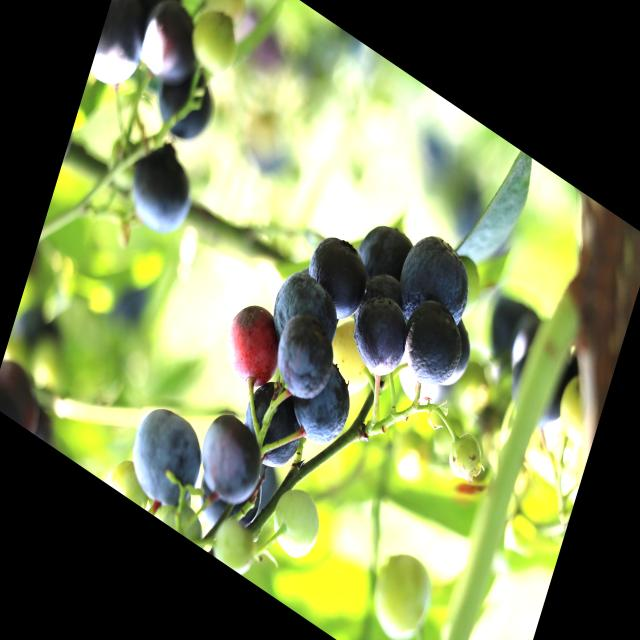blueberry: (120, 390, 212, 522), (395, 222, 477, 341), (295, 220, 373, 333), (126, 137, 202, 249), (193, 404, 269, 516), (266, 303, 341, 411), (396, 292, 469, 400), (266, 261, 343, 363), (234, 376, 306, 482), (289, 349, 356, 452), (152, 57, 222, 155), (137, 0, 206, 96), (344, 290, 408, 389)
blueberry-halfripe: (215, 286, 292, 404)
blueberry-unripe: (362, 539, 438, 640), (266, 478, 326, 566), (210, 508, 264, 581), (442, 423, 490, 494), (104, 449, 156, 510)
